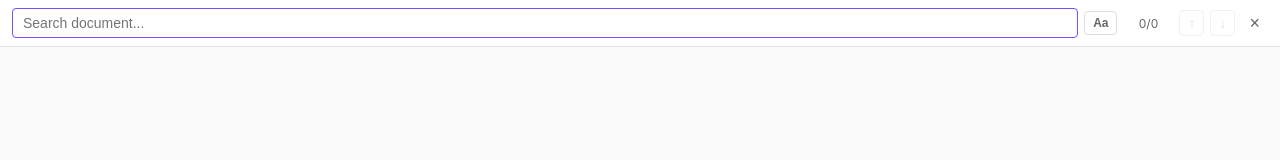
Test: SearchPanel › counts matches and jumps to the first as the query lands
In the field with placeholder "Search document...": (545, 23) [12, 8, 1078, 38], type "fox"
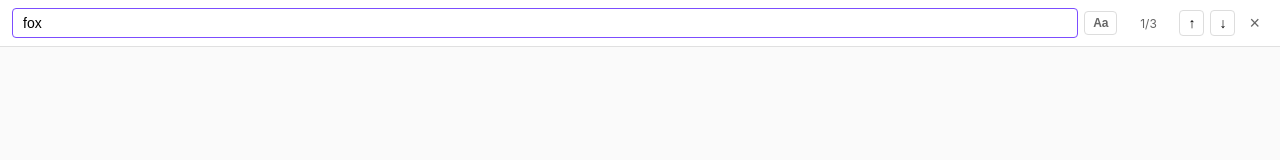
Check: the text "1/3" is shown, box [1140, 16, 1157, 30]
